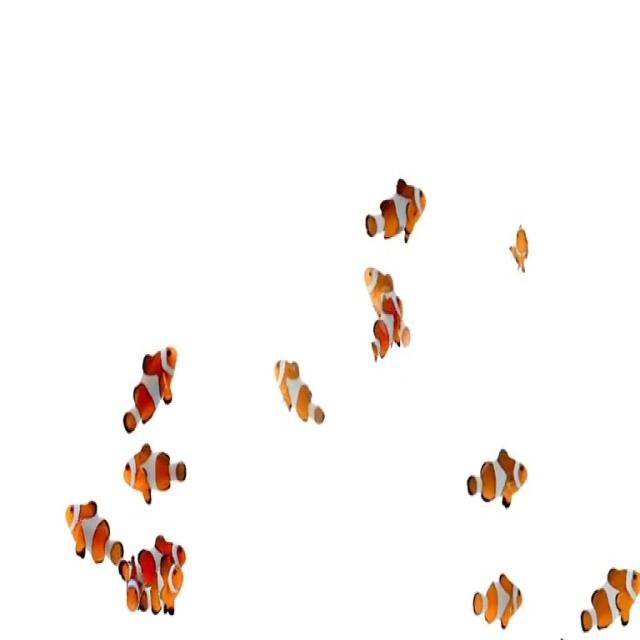fish: (360, 174, 432, 253), (576, 557, 640, 640), (121, 344, 180, 434), (364, 260, 422, 351), (271, 349, 330, 436), (462, 445, 531, 519), (62, 492, 122, 576), (116, 441, 194, 504), (112, 527, 192, 586), (468, 562, 526, 638), (366, 288, 411, 370), (154, 563, 202, 619), (122, 560, 156, 624), (506, 214, 532, 278)
